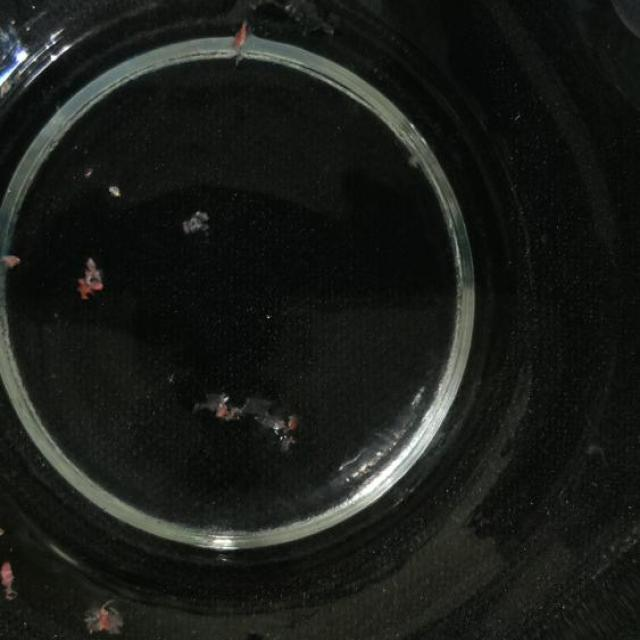fiber: (185, 381, 308, 458), (74, 254, 108, 300), (293, 1, 334, 36), (86, 605, 124, 640), (226, 20, 253, 58), (584, 440, 614, 468), (179, 208, 208, 235), (226, 3, 277, 17), (0, 559, 16, 599), (0, 250, 20, 280), (100, 183, 121, 200)
